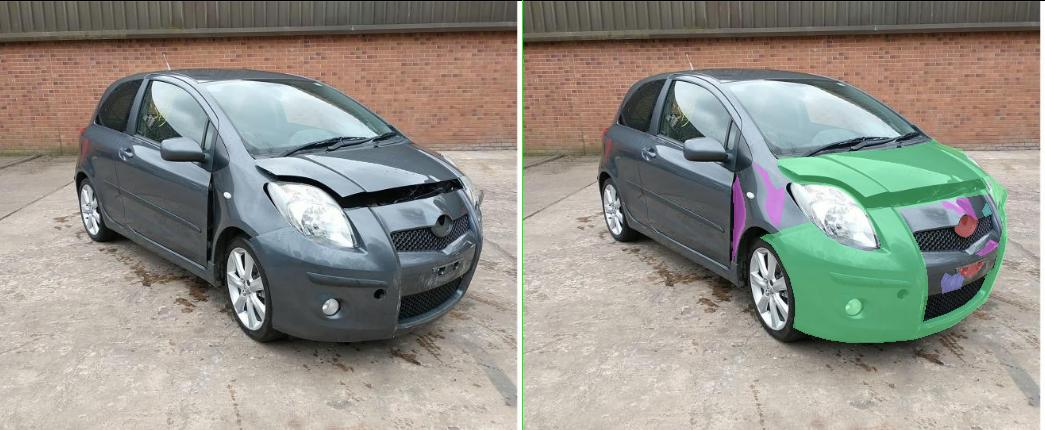Broken part: (474, 189, 969, 342), (508, 138, 935, 213), (935, 176, 965, 213)
Dent: (458, 162, 522, 226), (418, 175, 444, 261), (867, 194, 909, 220), (907, 239, 953, 255), (837, 201, 881, 214)
Flaking: (514, 225, 607, 242), (641, 245, 681, 259), (919, 203, 937, 216)
Missing part: (865, 215, 909, 237), (873, 261, 925, 277), (747, 290, 773, 300)
Scratch: (787, 264, 809, 322), (837, 270, 881, 293)
